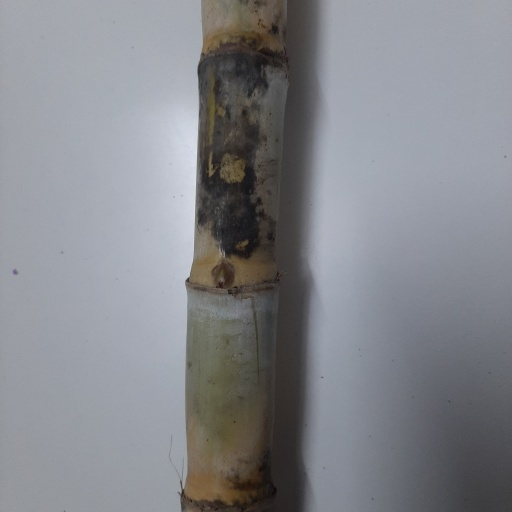Bud: (212, 263, 234, 289)
